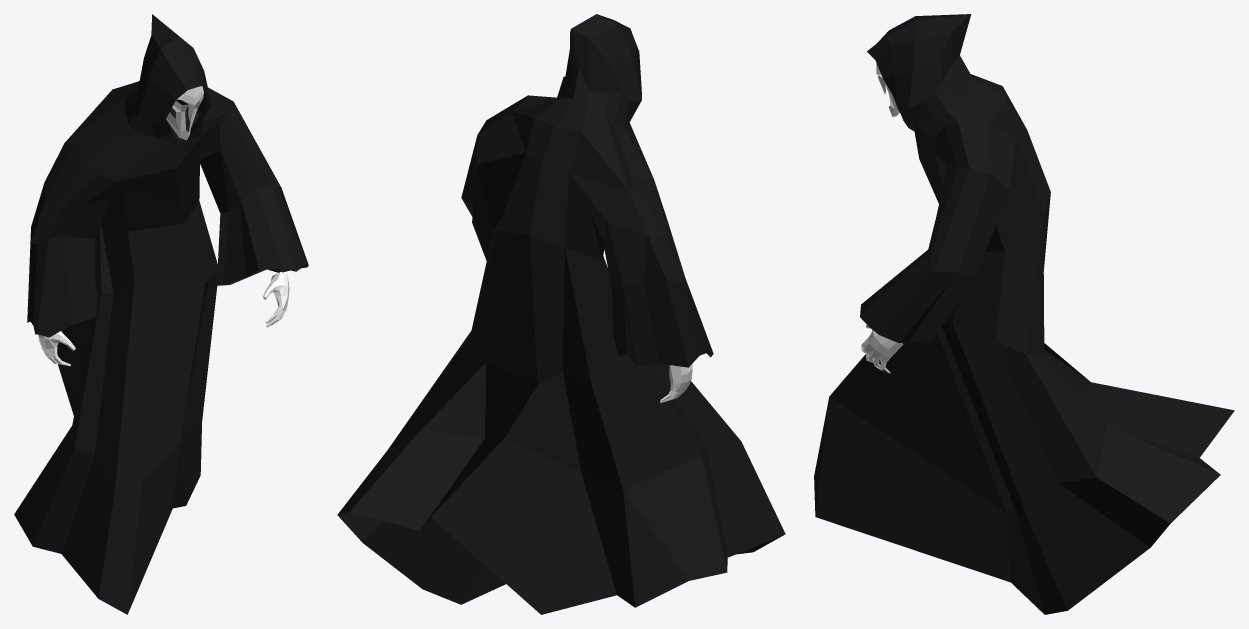
The model's file is ReaperWalk(37).obj.
3 views of the same model, side by side, from view 1: azimuth 30°, elevation 25°; view 2: azimuth 150°, elevation 25°; view 3: azimuth 270°, elevation 25° (orthographic). The views are drawn at different scales.
Parts seen in each view (by area): view 1: Plane003; view 2: Plane003; view 3: Plane003.
Boxes of the visible parts, x1=… form: Plane003: x1=14, y1=14, x2=308, y2=614; Plane003: x1=337, y1=14, x2=785, y2=614; Plane003: x1=814, y1=14, x2=1234, y2=614.
Bounding box in the file's own units: 106 × 208 × 140.
